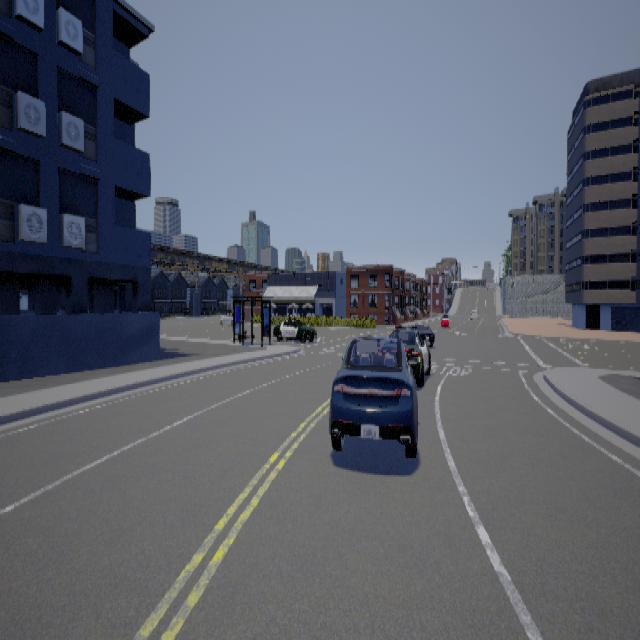vehicle: (328, 324, 434, 456), (272, 317, 316, 342)
